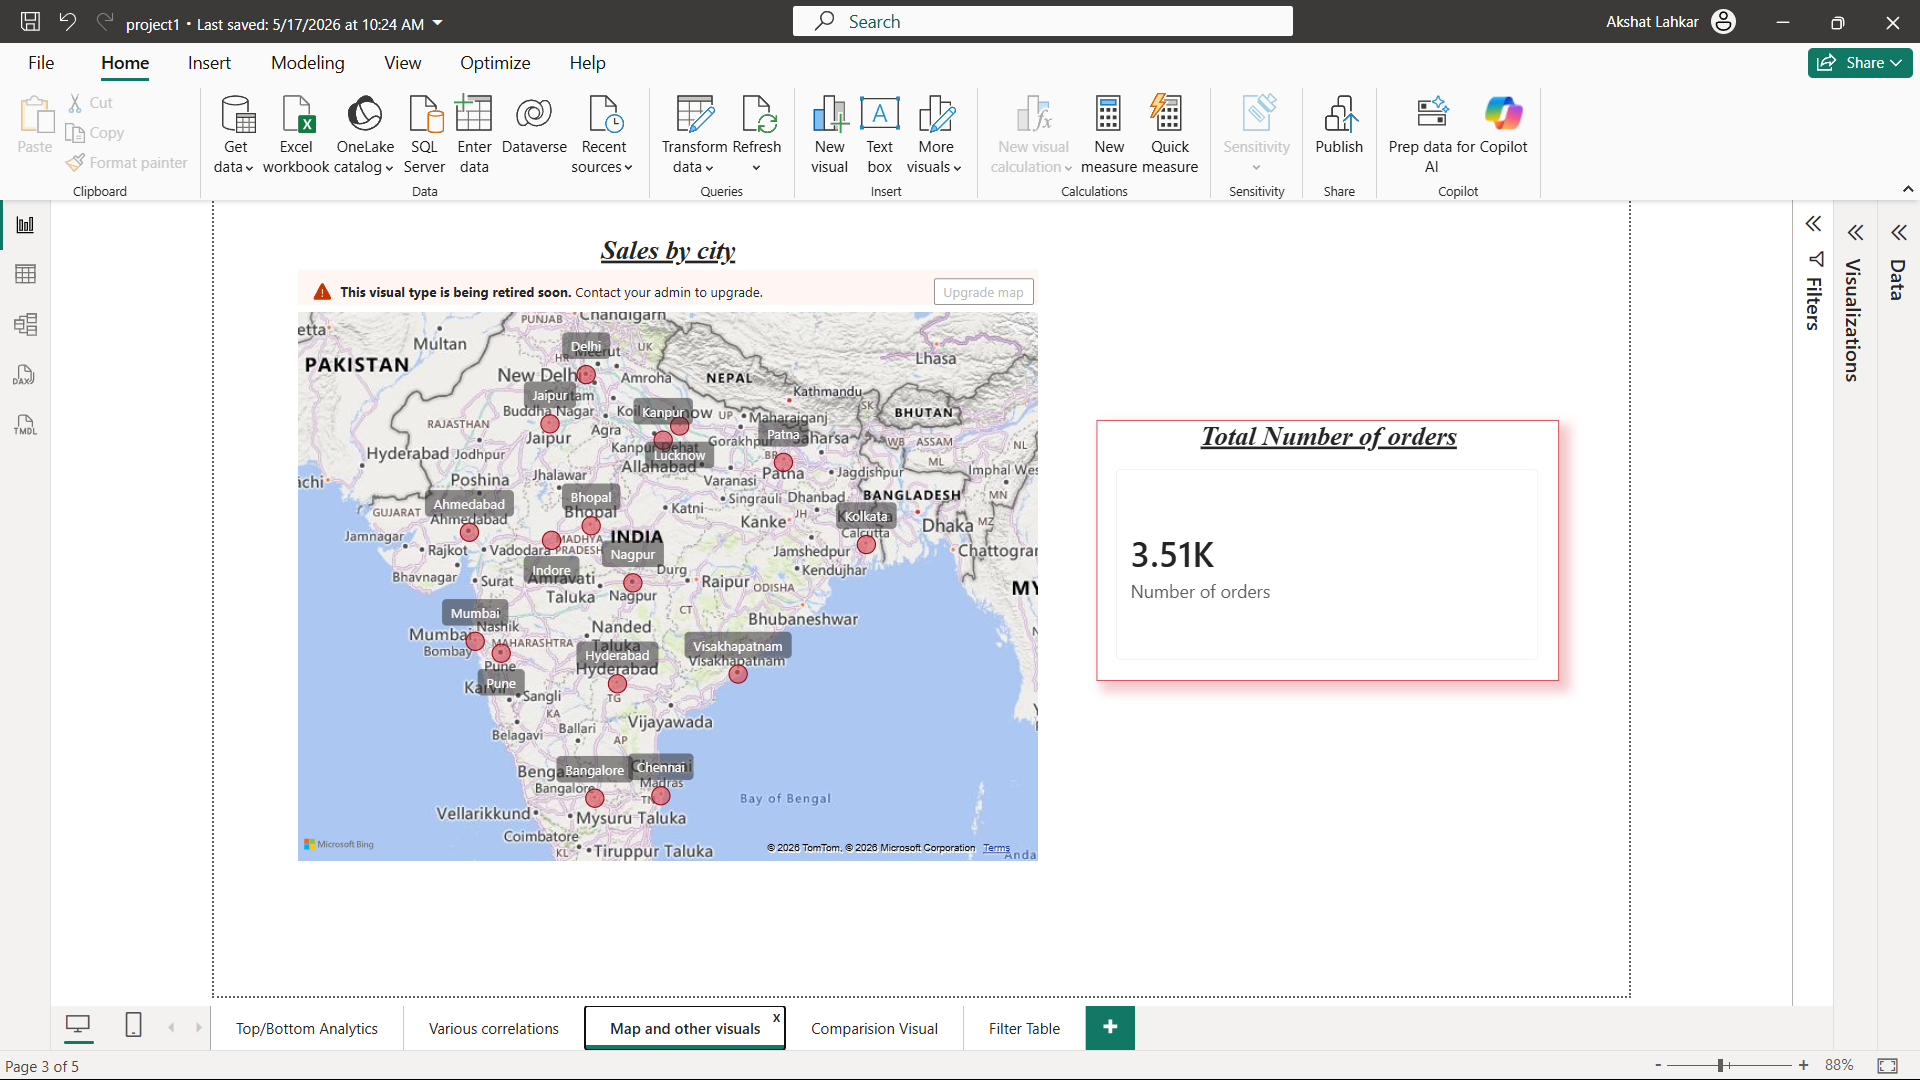

The dashboard page shown, as its layout file describes it:
{"tool":"powerbi","page":{"name":"Map and other visuals","canvas":[1280,720],"ordinal":2},"visuals":[{"type":"map","title":"Sales by city","fields":{"Category":["Dim Customers.City"]},"box":[70.9,31.4,679.1,570.9],"z":0},{"type":"cardVisual","title":"Total Number of orders","fields":{"Data":["Count(Fct table.Order ID)"]},"box":[773.3,195.3,419.8,234.9],"z":1000}]}

Visuals, with their boxes on the page's 1280x720 design canvas (x1, y1, x2, y2). These are canvas units, not pixel positions in the 1920x1080 screenshot, which may show the page scaled, cropped or inside an application window:
"Sales by city" map: box=[71, 31, 750, 602]
"Total Number of orders" cardVisual: box=[773, 195, 1193, 430]
